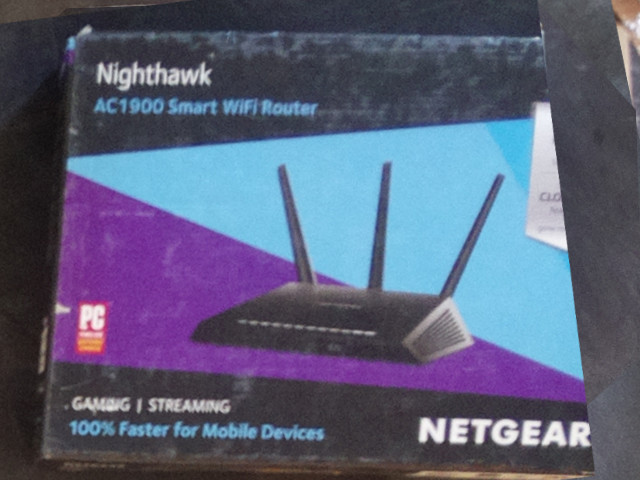cardboard: (33, 29, 595, 472)
